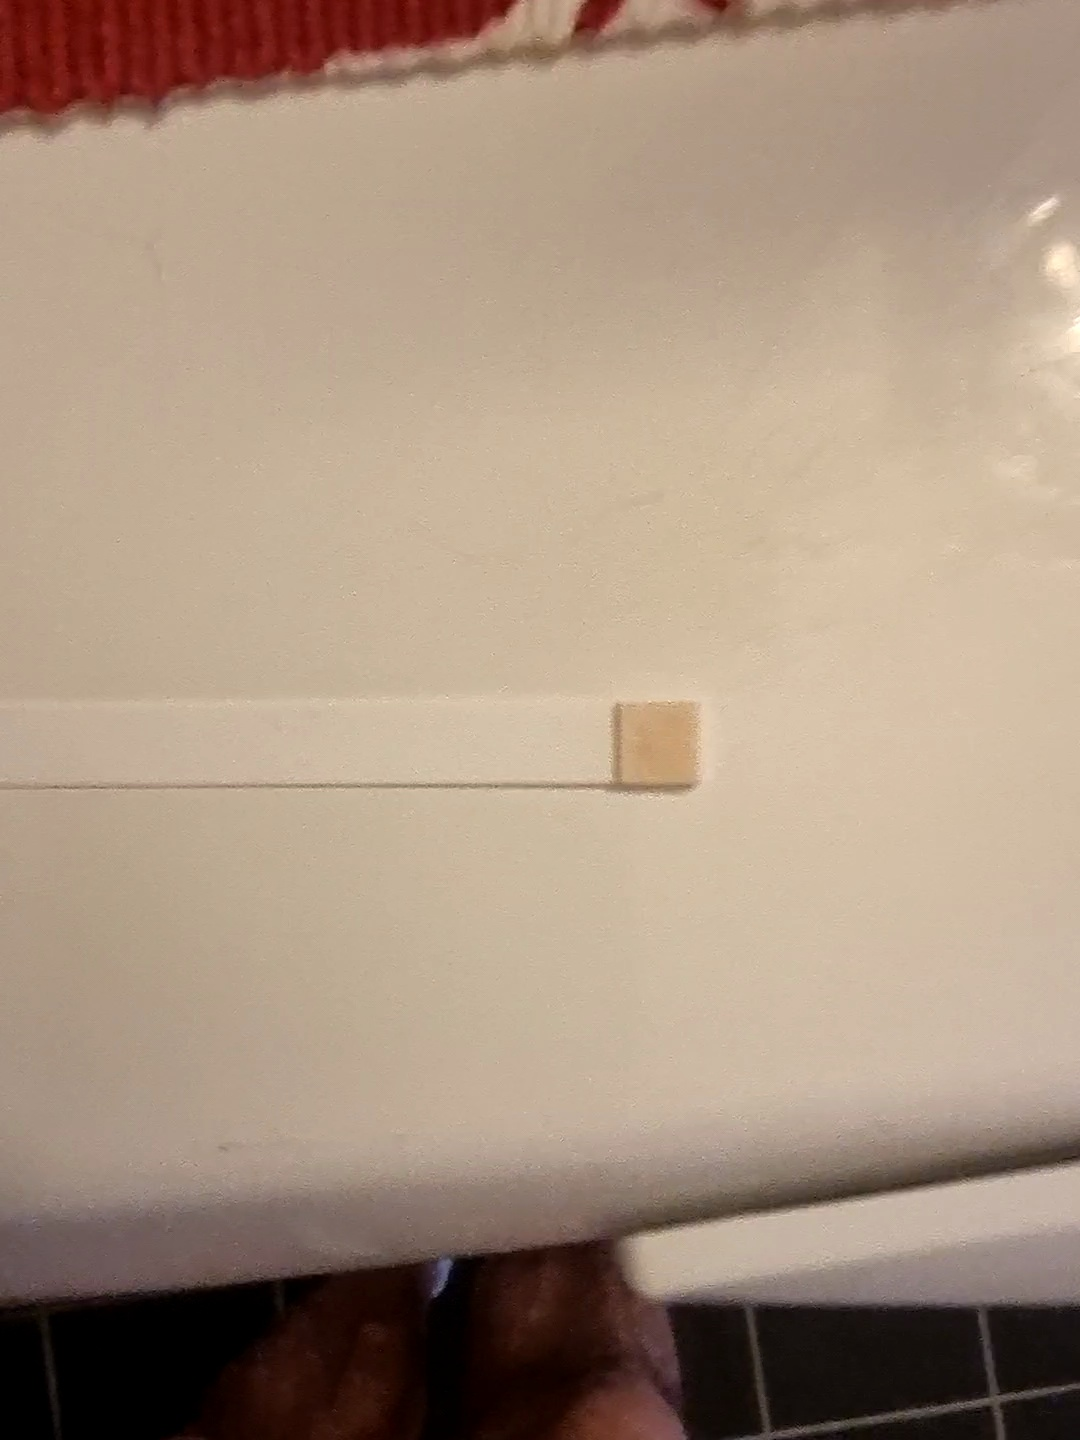keto-tip: (610, 694, 711, 798)
